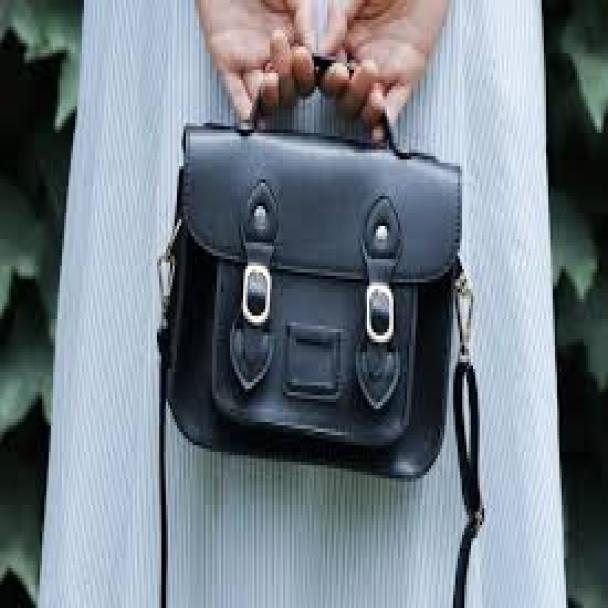Tas: (159, 117, 450, 487)
